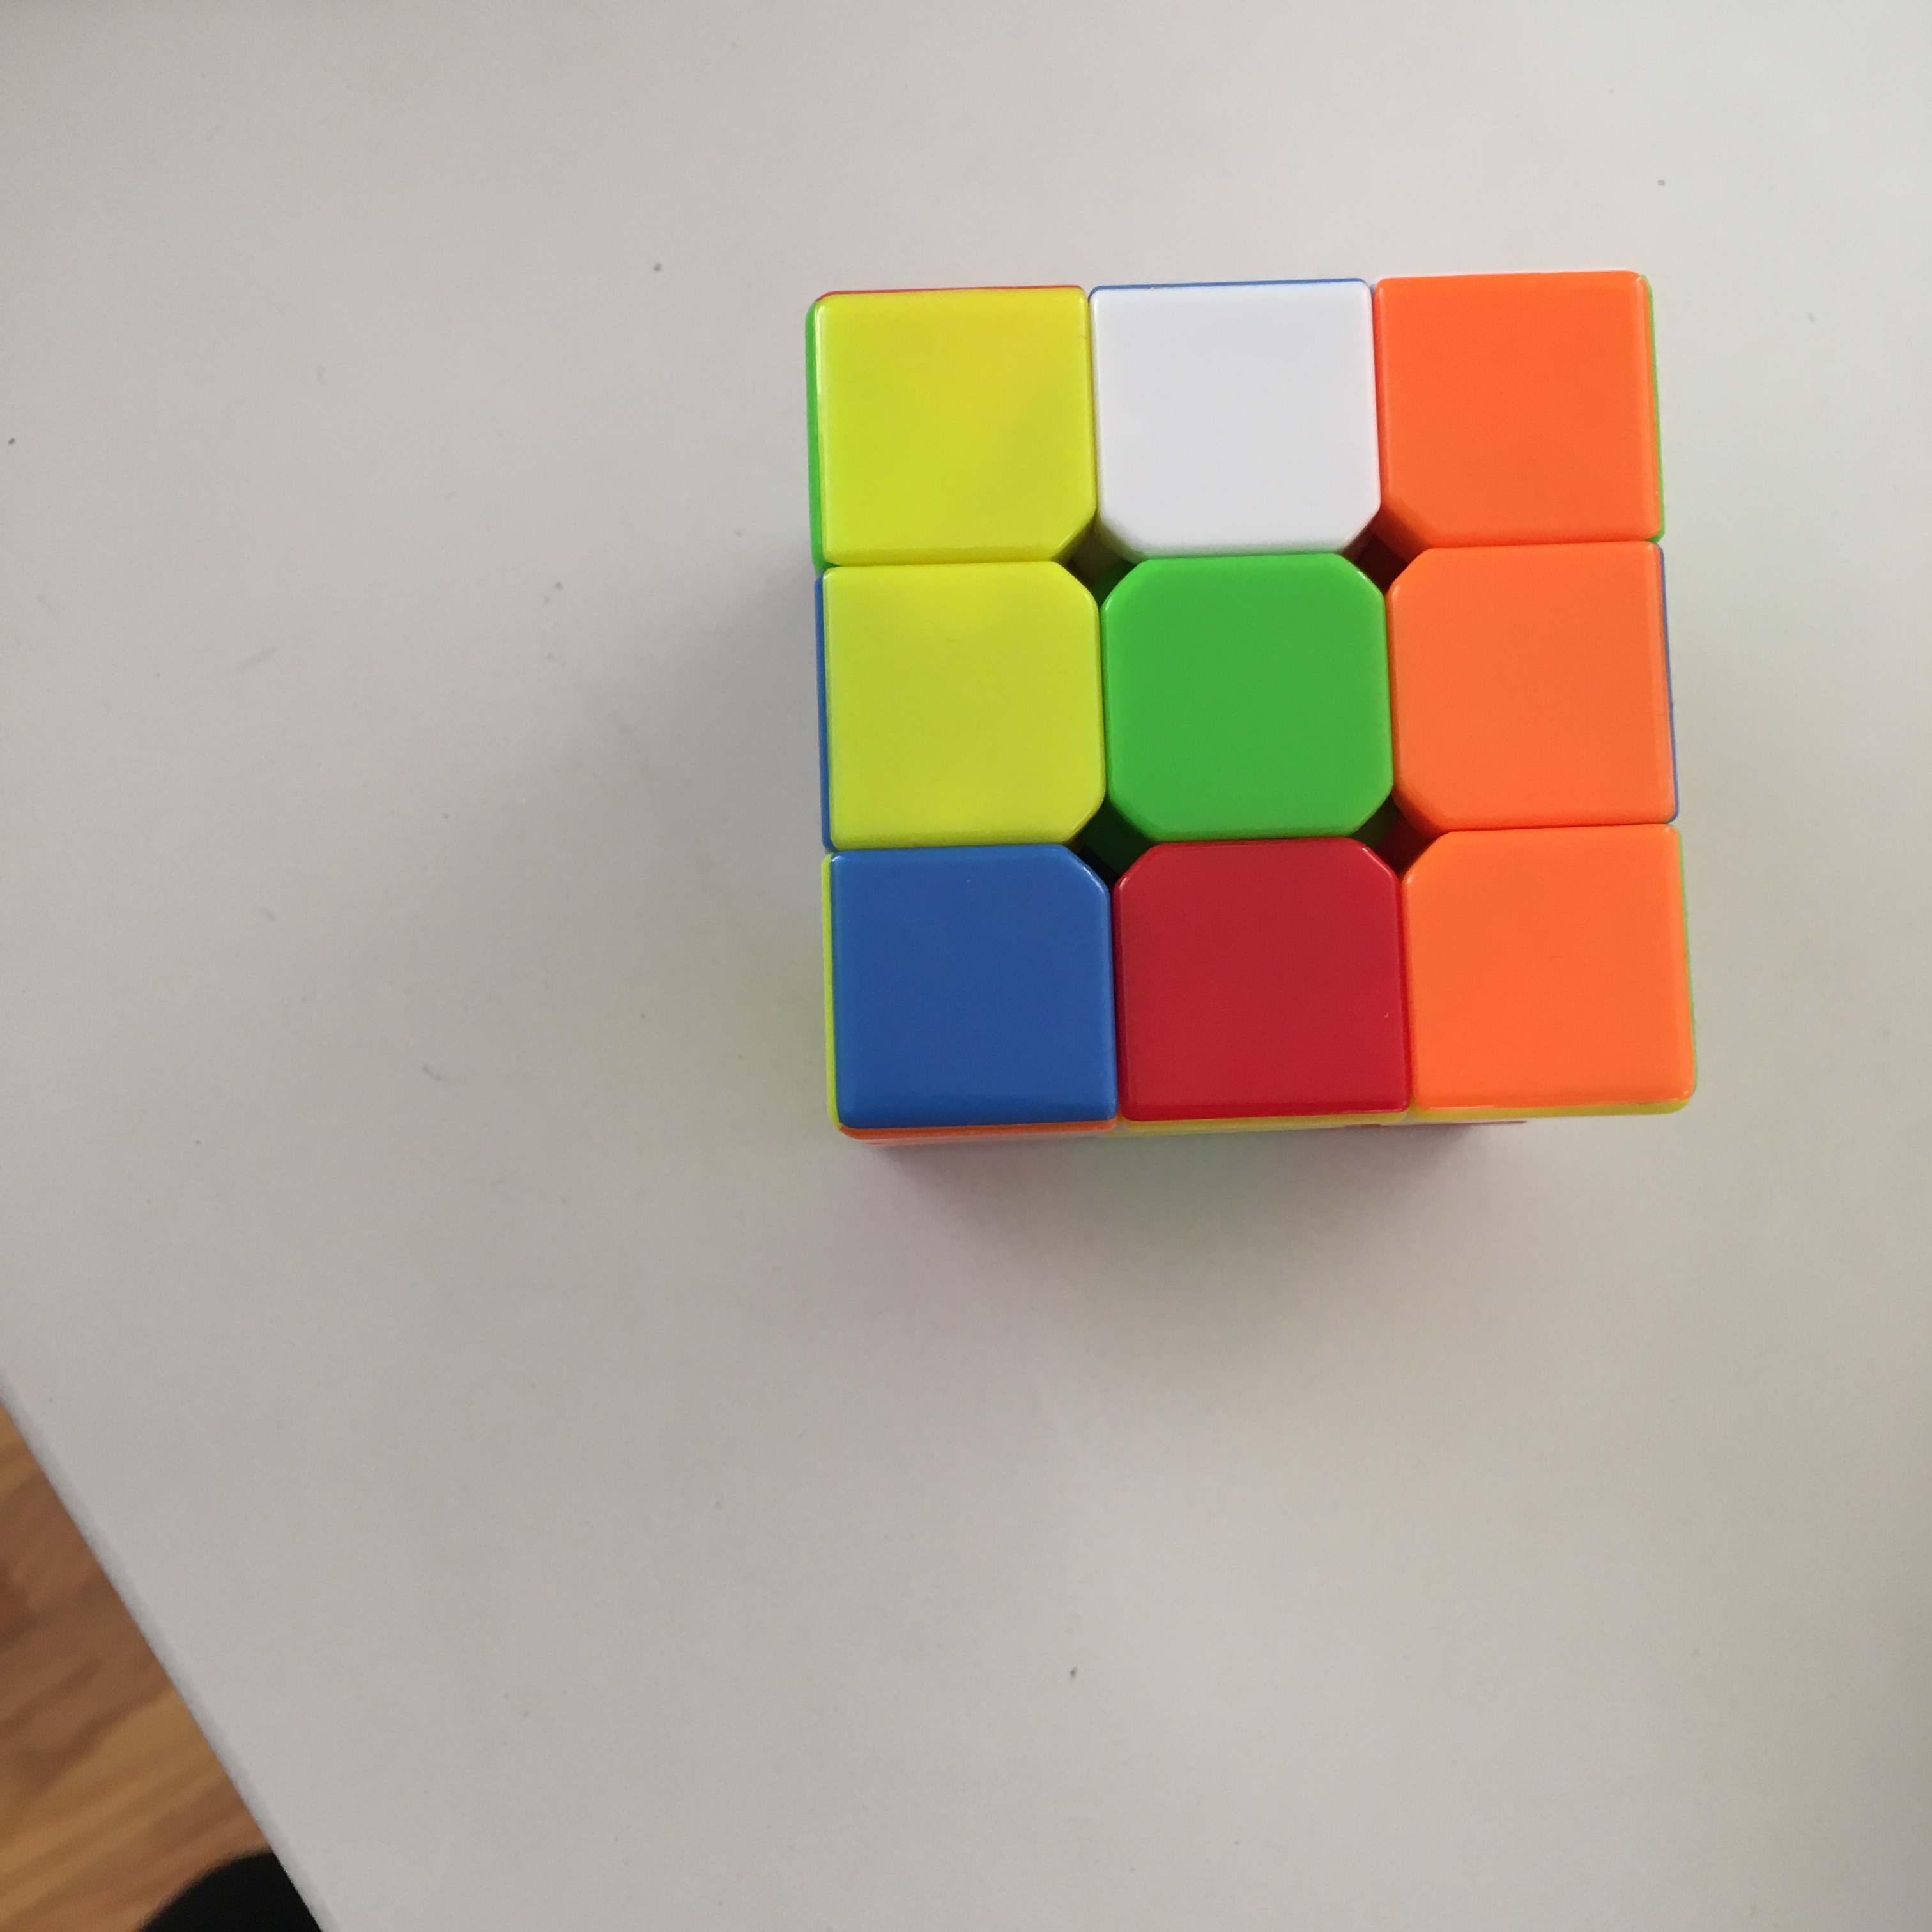face: (809, 269, 1685, 1131)
